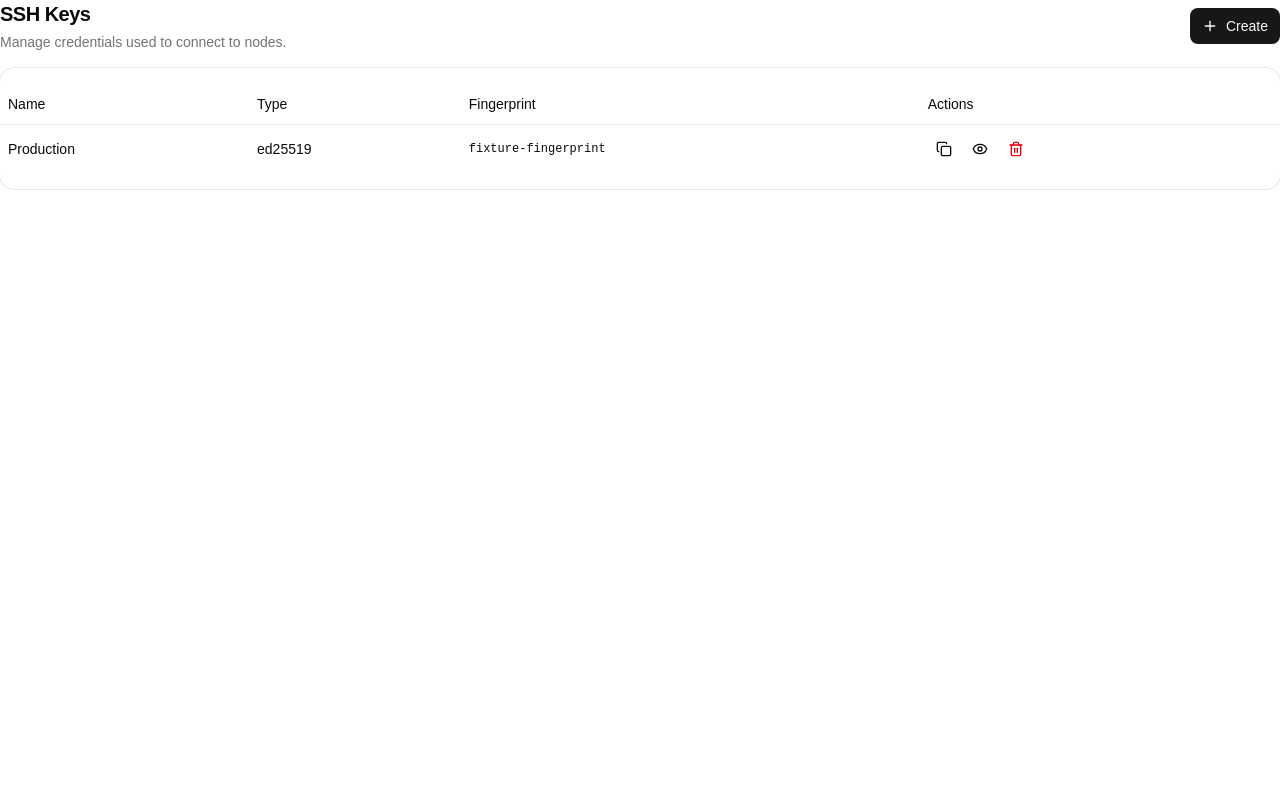
Test: keeps a failed deletion visible for retry
The width and height of the screenshot is (1280, 800).
What coordinates should you click on to do the following:
click the button named "Delete · Production"
I would click on:
 (1016, 148)
Its box is left=1000, top=132, right=1032, bottom=164.
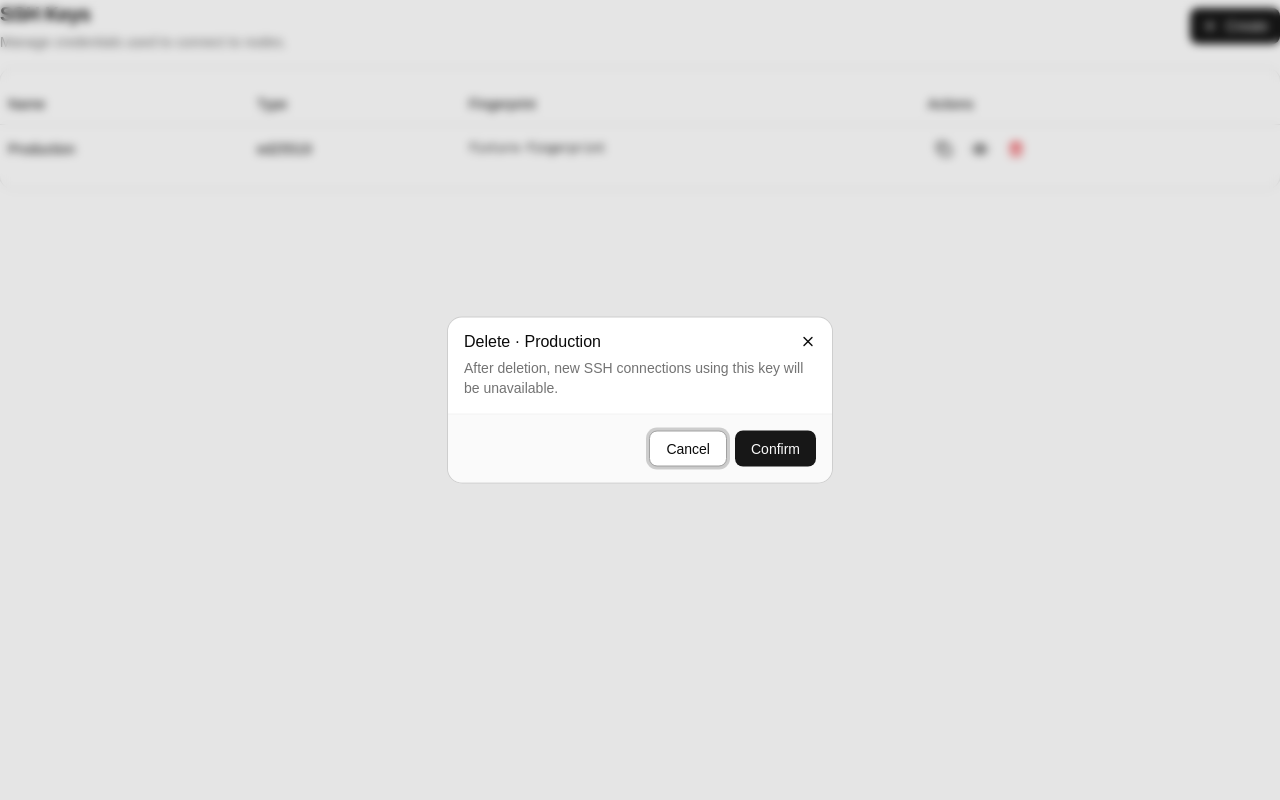
What coordinates should you click on to do the following:
click the button "Confirm"
I would click on:
 (776, 448)
Its box is left=735, top=430, right=816, bottom=466.
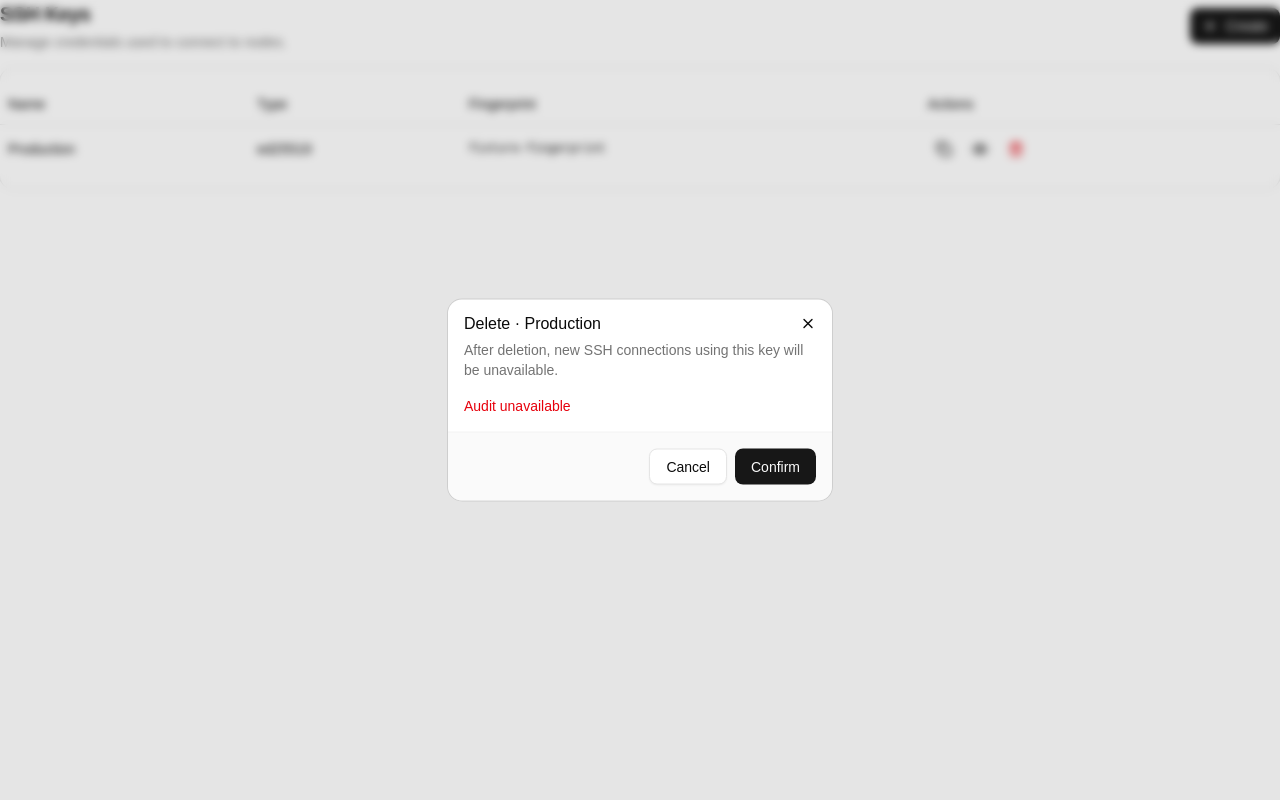
Expected: the message reads "Audit unavailable", left=464, top=398, right=571, bottom=414
What coordinates should you click on to do the following:
click the button "Confirm"
I would click on:
 (776, 466)
Its box is left=735, top=448, right=816, bottom=484.
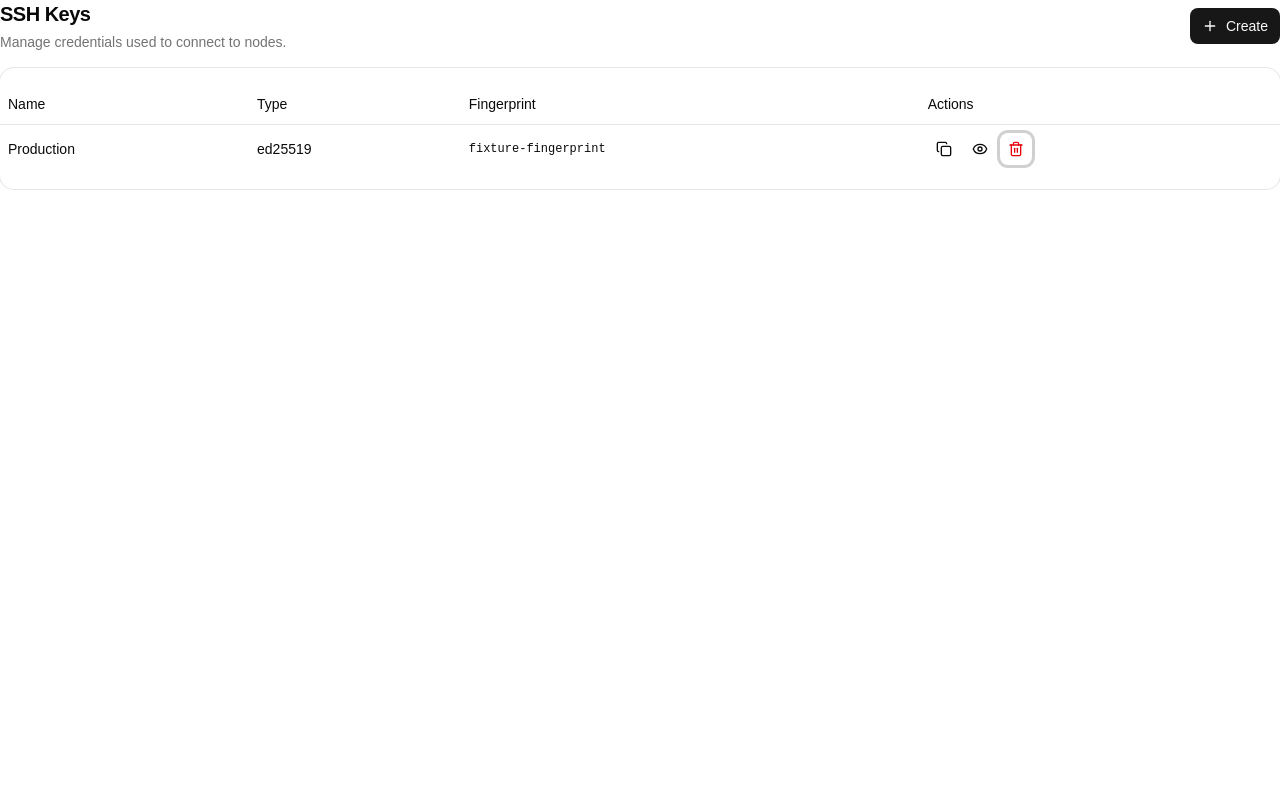
Expected: the dialog is gone
